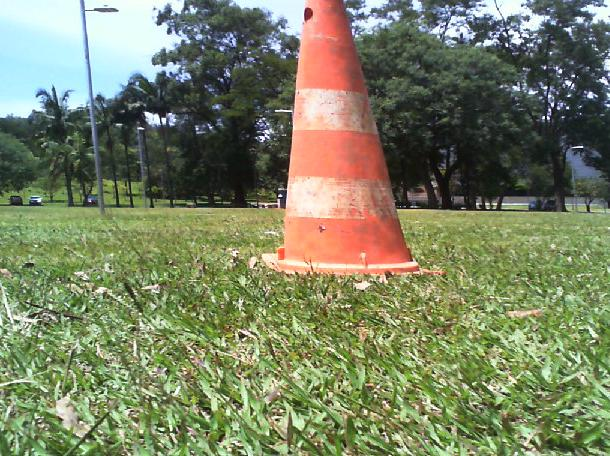0 cone: (262, 0, 440, 274)
